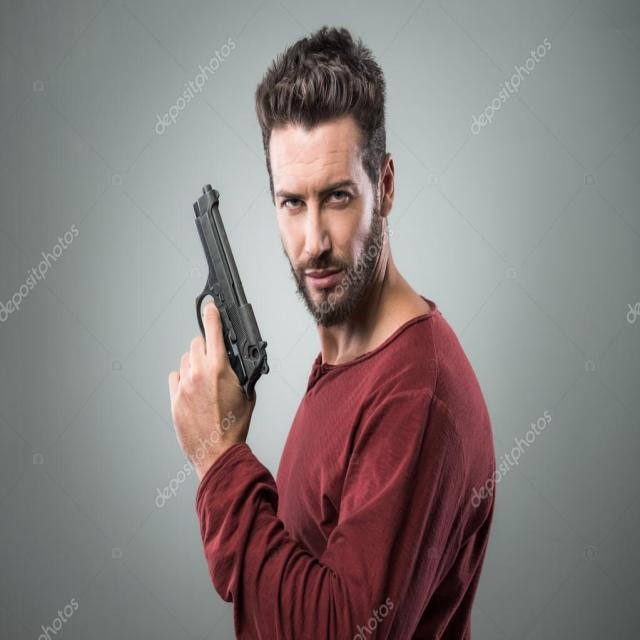HandGun: (192, 184, 270, 401)
